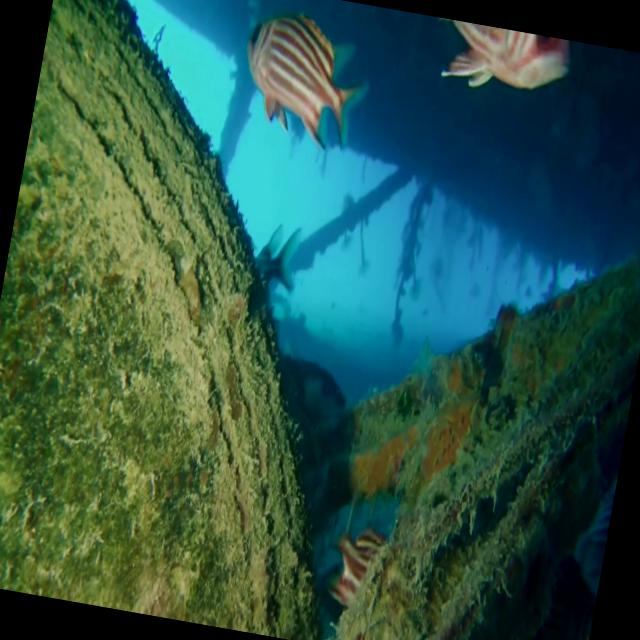Asker Baligi: (228, 2, 377, 156)
